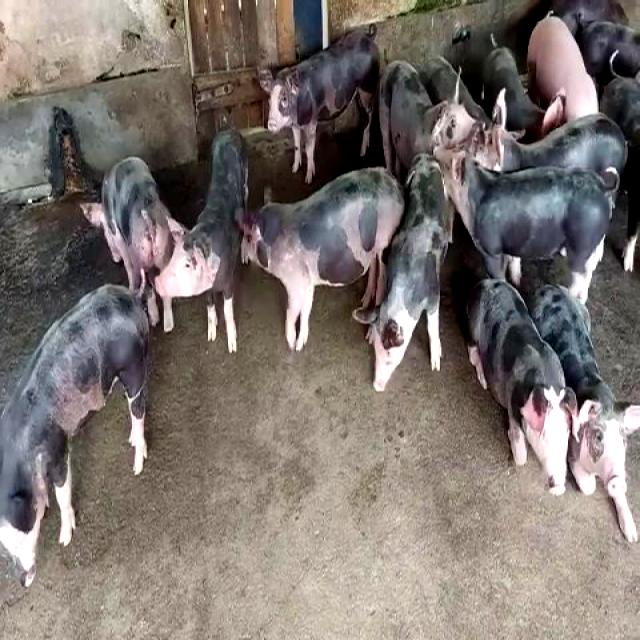pig: (0, 285, 149, 584), (243, 168, 406, 349), (532, 285, 637, 541), (355, 154, 454, 391), (468, 279, 575, 493), (156, 130, 248, 352), (468, 165, 612, 301), (80, 156, 186, 324), (268, 30, 378, 183), (378, 60, 477, 181), (520, 112, 628, 189)
